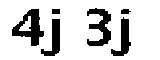3: (82, 1, 113, 49)
4: (7, 5, 45, 47)
j: (41, 5, 72, 59), (111, 5, 135, 60)
